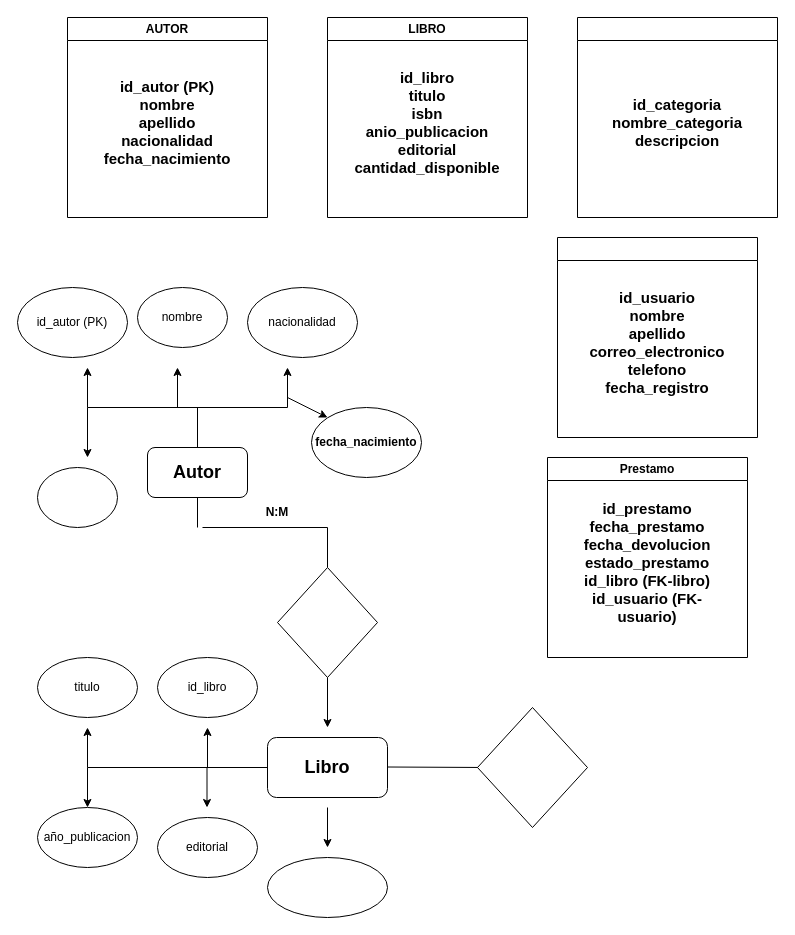
This 795x935 diagram has some shape labels left out. Each missing label, with the box of its shape:
apellido: (36, 466, 118, 528)
cantidad_disponible: (266, 856, 388, 918)
Categorias: (576, 16, 778, 218)
escribe: (276, 566, 378, 678)
Pertenece: (476, 706, 588, 828)
Usuarios: (556, 236, 758, 438)
